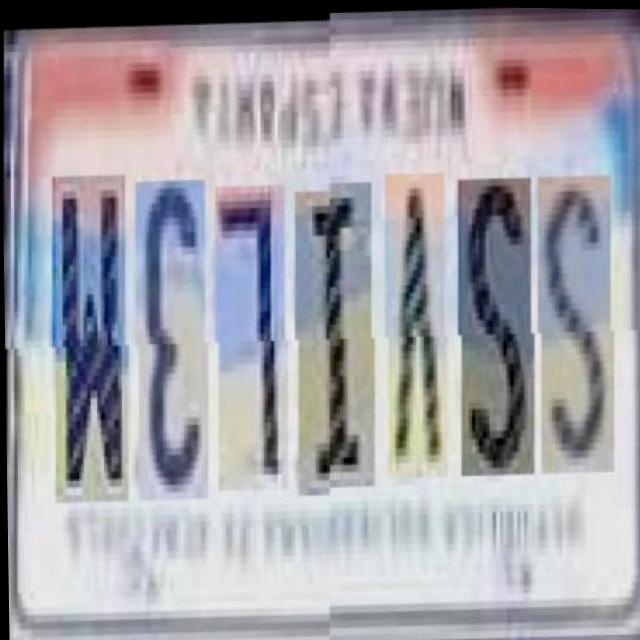3: (130, 166, 207, 489)
i: (290, 178, 374, 486)
l: (210, 172, 286, 479)
m: (46, 160, 127, 491)
s: (532, 172, 612, 472), (452, 174, 532, 473)
v: (381, 169, 445, 476)
